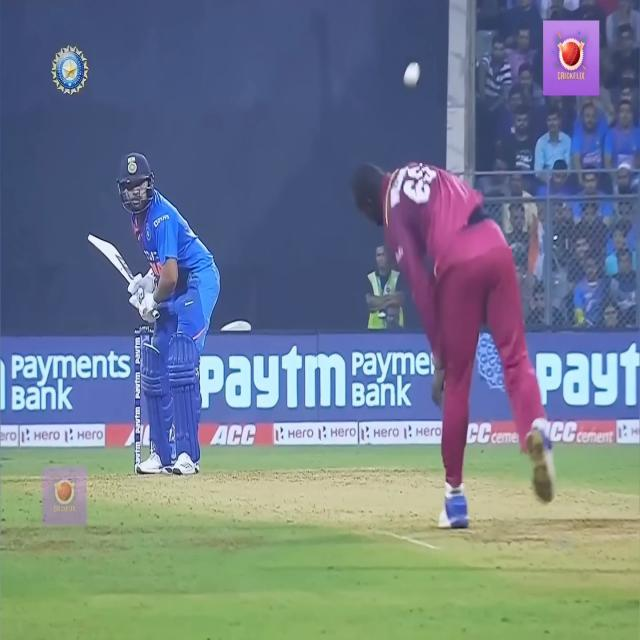fully_visible: (197, 350, 350, 412)
partially_visible: (533, 333, 640, 412)
